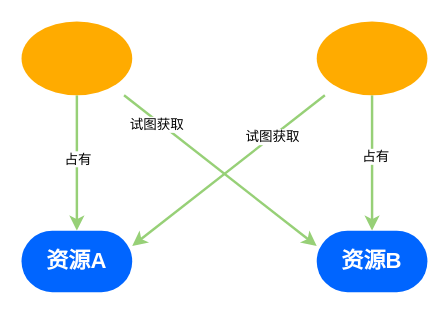
The diagram is 448 pixels wide and 312 high, and some of its shapes have lost their labels. The centre of each missing label's shape, as x and y in pixels:
线程A: point 76,58
线程B: point 371,58
